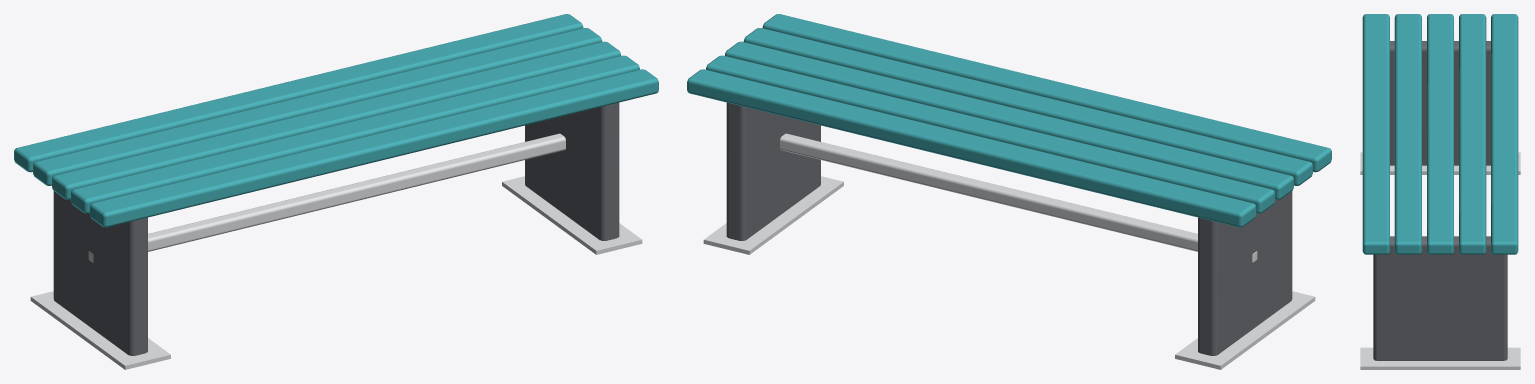
Rendered from public-aquarium-and-marine-centre-visitor-bench-teal-d3402427.glb.
3 renders of one model, left to right at view 1: azimuth 30°, elevation 25°; view 2: azimuth 150°, elevation 25°; view 3: azimuth 270°, elevation 25°, orthographic. The views are drawn at different scales.
Visible parts, largest first — view 1: visitor-bench-teal; view 2: visitor-bench-teal; view 3: visitor-bench-teal.
Boxes of the visible parts, box(x1,y1,x2,y2) form: visitor-bench-teal: box(14, 14, 658, 369); visitor-bench-teal: box(687, 14, 1331, 369); visitor-bench-teal: box(1360, 14, 1520, 369).
Bounding box in the file's own units: 1.7 × 0.465 × 0.5.
